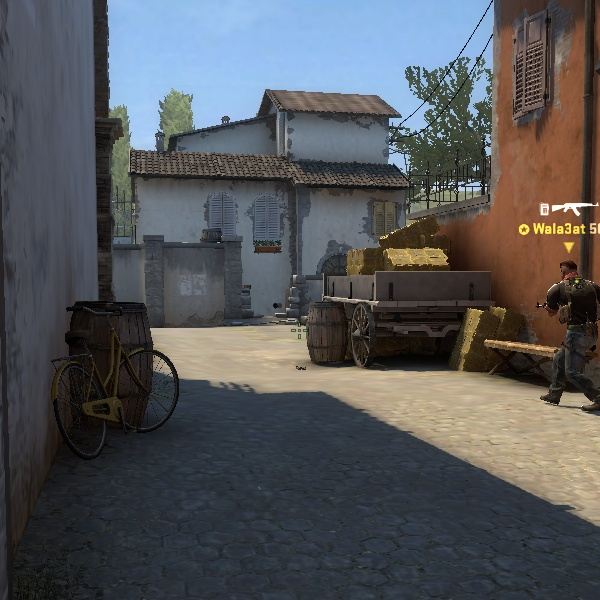t_body: (527, 255, 598, 413)
t_head: (551, 254, 584, 288)
